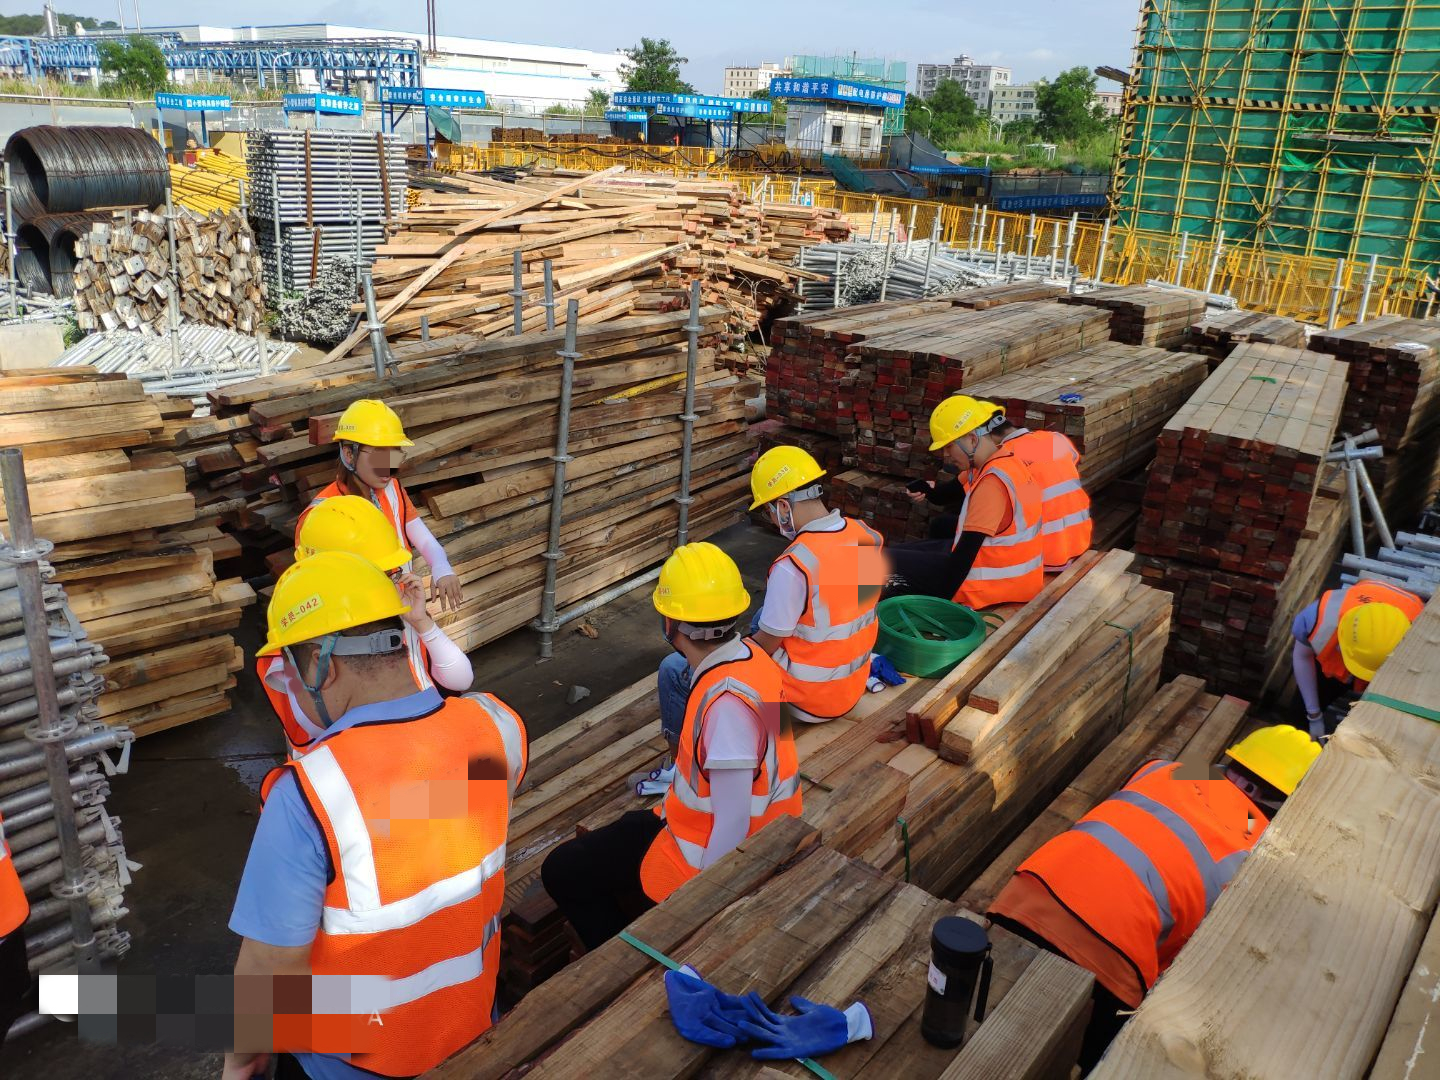helmet: (258, 563, 412, 647), (642, 546, 758, 640), (1227, 711, 1328, 786), (288, 505, 418, 561), (1343, 600, 1425, 681), (913, 397, 1014, 452), (335, 392, 412, 462), (739, 443, 805, 497)
person: (225, 567, 507, 1080), (988, 729, 1334, 971), (637, 523, 816, 917), (926, 397, 1097, 639), (760, 428, 893, 733), (278, 400, 465, 585), (1282, 569, 1437, 747)
scaffold: (1, 508, 158, 1011), (236, 118, 408, 221), (243, 224, 398, 305)
slogan: (999, 194, 1107, 211), (773, 81, 831, 95), (429, 92, 482, 105), (613, 93, 671, 104)
vest: (274, 723, 505, 1066), (1000, 777, 1263, 958), (666, 649, 793, 875), (786, 527, 888, 712), (965, 449, 1043, 605), (1307, 573, 1409, 651), (1031, 443, 1094, 563), (311, 474, 421, 535)
wood: (468, 567, 1170, 923), (379, 826, 1128, 1080), (225, 305, 739, 646), (1085, 599, 1440, 1079), (1, 340, 224, 718), (910, 339, 1217, 486), (1132, 363, 1347, 571), (843, 290, 1108, 446), (775, 258, 947, 434), (1306, 311, 1440, 453), (1067, 275, 1212, 347), (1217, 308, 1329, 350)
